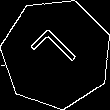L_SE: (28, 25, 85, 82)
